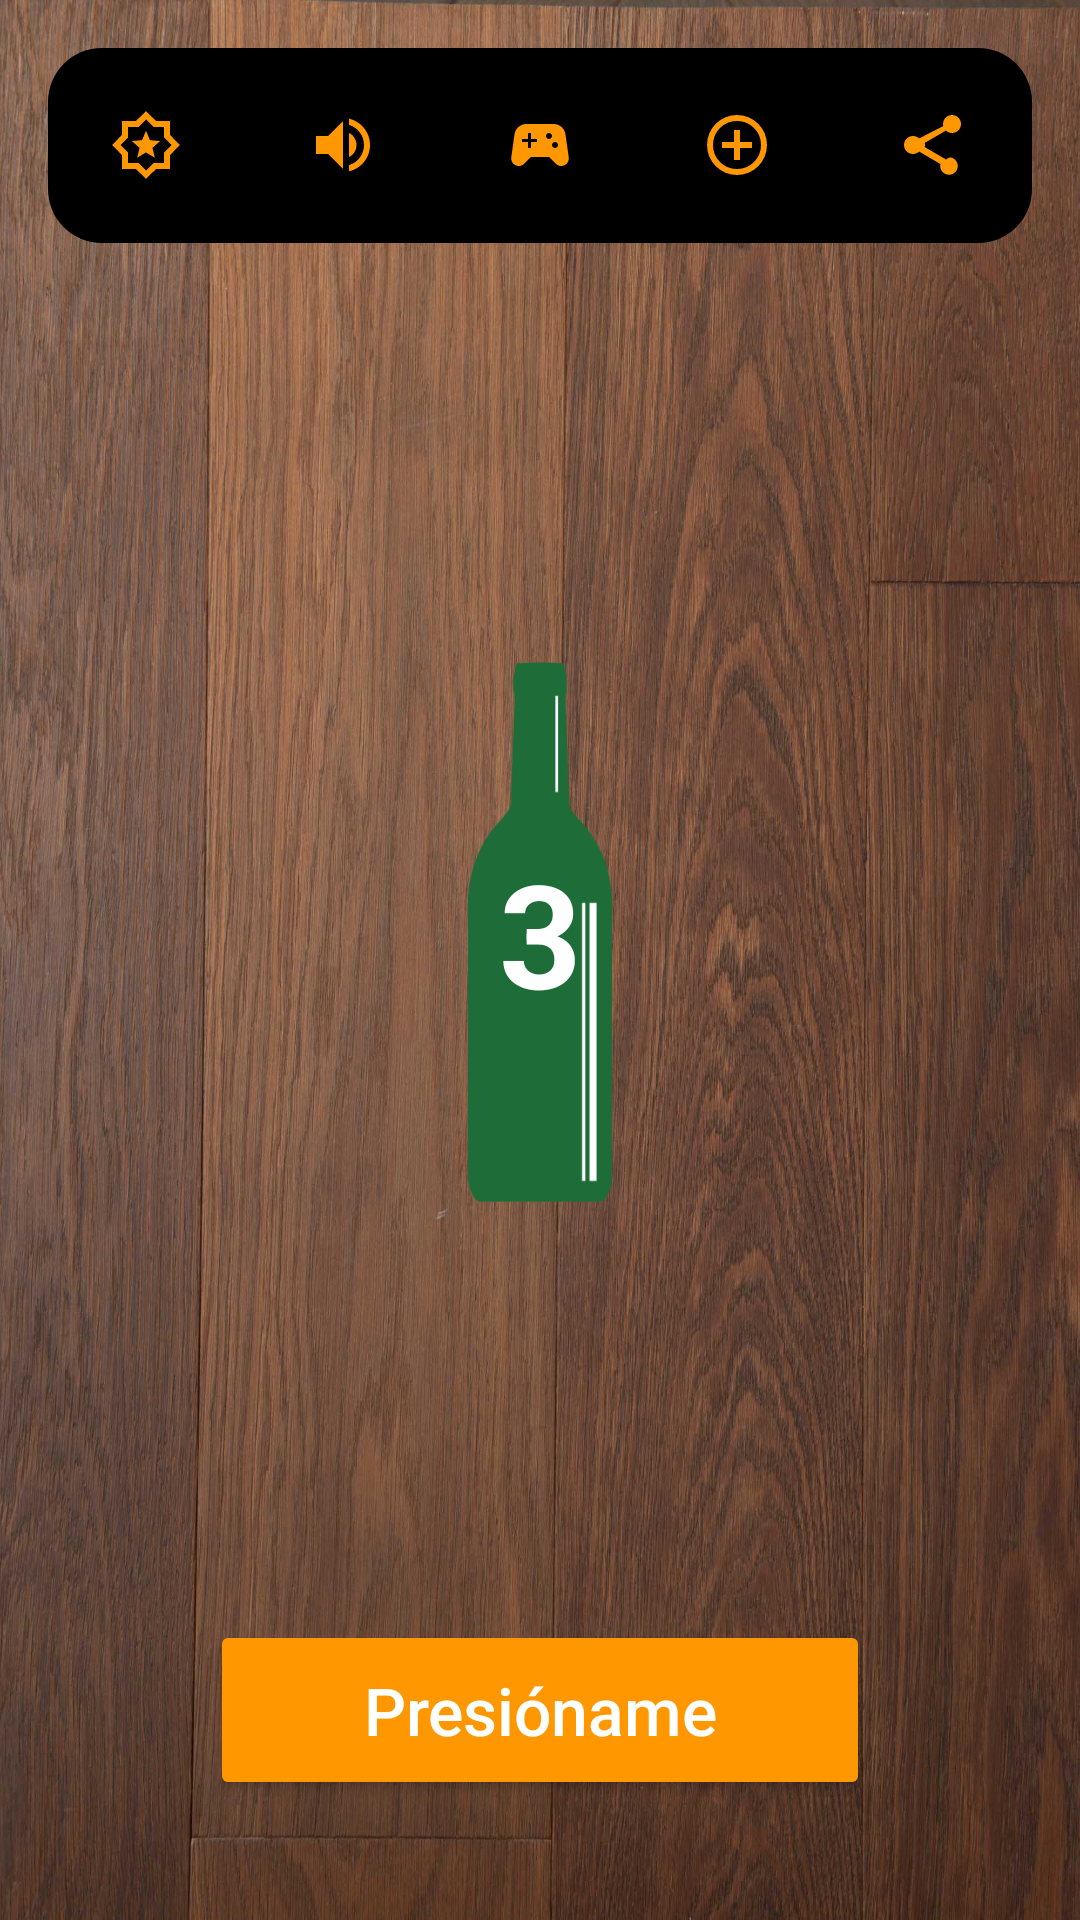

Where to tap for icons on this 1080w x 1920h app screen, as [x,y]:
add: [737,145]
share: [932,145]
star: [146,145]
volume on: [343,145]
